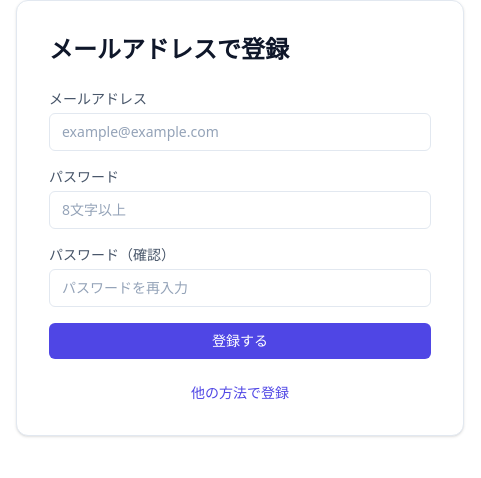
Scenario: RegisterEmailForm › パスワード不一致のバリデーションエラー表示
In the field labelled "メールアドレス": (240, 132) [49,113,431,151], type "test@example.com"
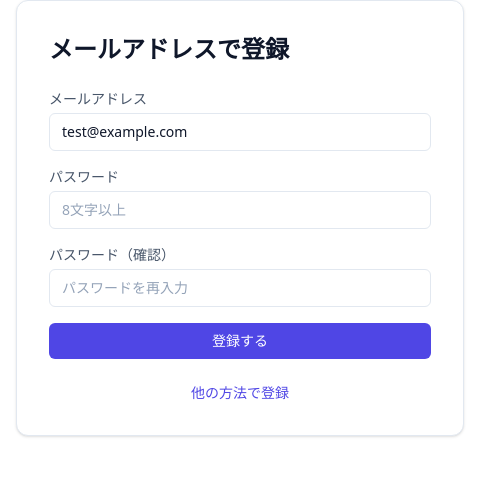
In the password field labelled "パスワード": (240, 210) [49,191,431,229], type "Password1!"
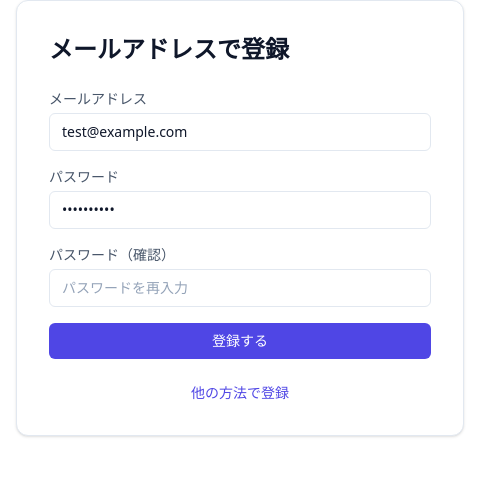
In the password field labelled "パスワード（確認）": (240, 288) [49,269,431,307], type "Different1!"
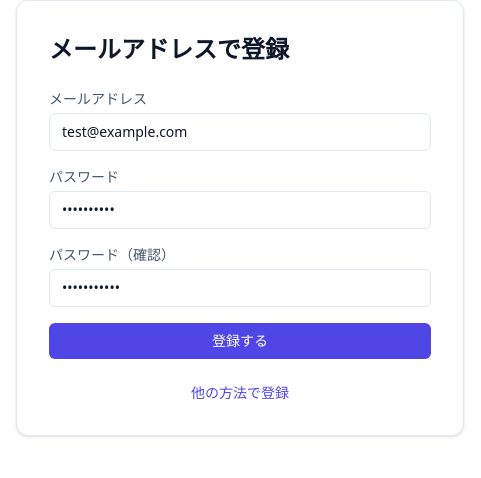
Submit the text "登録する", box [49,89,431,359]
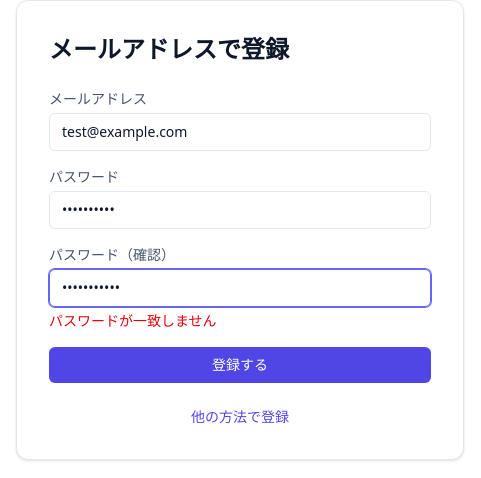
Result: the text "パスワードが一致しません" is shown at [49,311,217,330]
